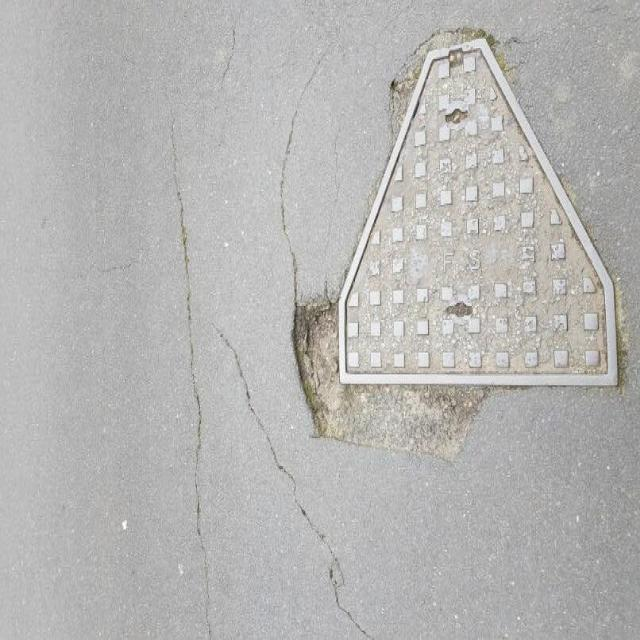pothole: (288, 292, 488, 458)
